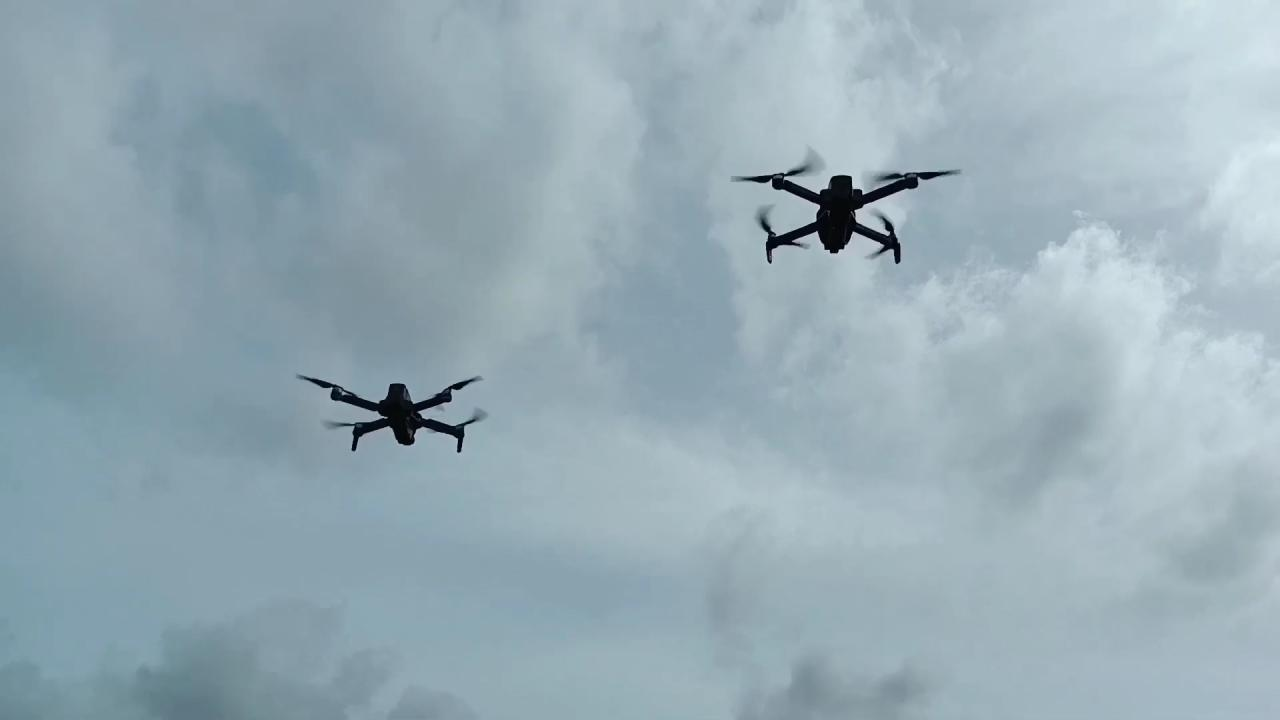Drone: (716, 140, 971, 280), (294, 359, 498, 478)
